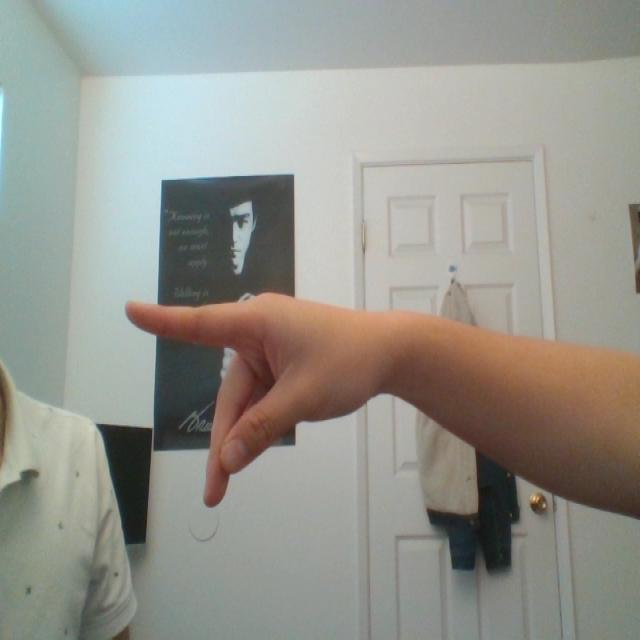P: (106, 277, 456, 488)
